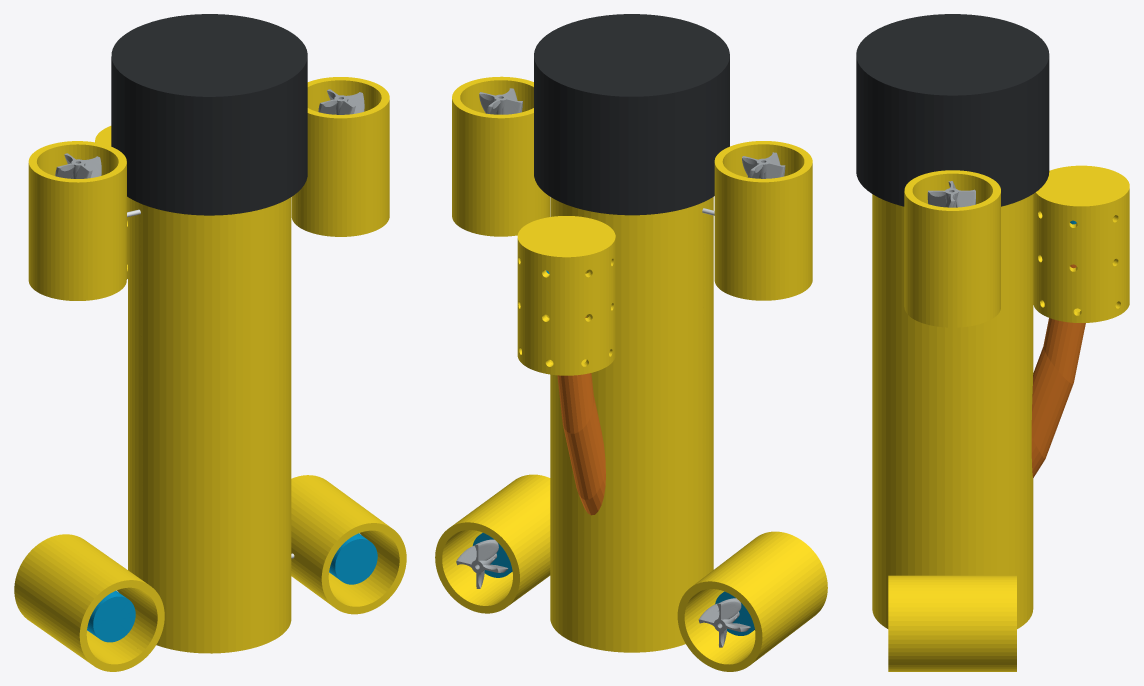
The model's file is Lo-MARVE.obj.
3 renders of one model, left to right at view 1: azimuth 30°, elevation 25°; view 2: azimuth 150°, elevation 25°; view 3: azimuth 270°, elevation 25°, orthographic.
Parts seen in each view (by area): view 1: group_0_16768282, group_0_2829873, group_0_40919, group_0_10988977; view 2: group_0_16768282, group_0_2829873, group_0_16089887, group_0_10988977, group_0_40919; view 3: group_0_16768282, group_0_2829873, group_0_16089887, group_0_10988977.
Boxes of the visible parts, x1,y1,x2,y2 form: group_0_16768282: (14,77,406,671); group_0_2829873: (111,14,307,215); group_0_40919: (87,533,377,642); group_0_10988977: (55,89,364,178); group_0_16768282: (435,76,827,671); group_0_2829873: (534,14,729,215); group_0_16089887: (557,316,605,515); group_0_10988977: (456,88,785,647); group_0_40919: (472,270,754,635); group_0_16768282: (872,165,1129,671); group_0_2829873: (856,14,1049,206); group_0_16089887: (1031,264,1085,478); group_0_10988977: (927,181,975,207).
Bounding box in the file's own units: 24.55 × 38 × 17.
